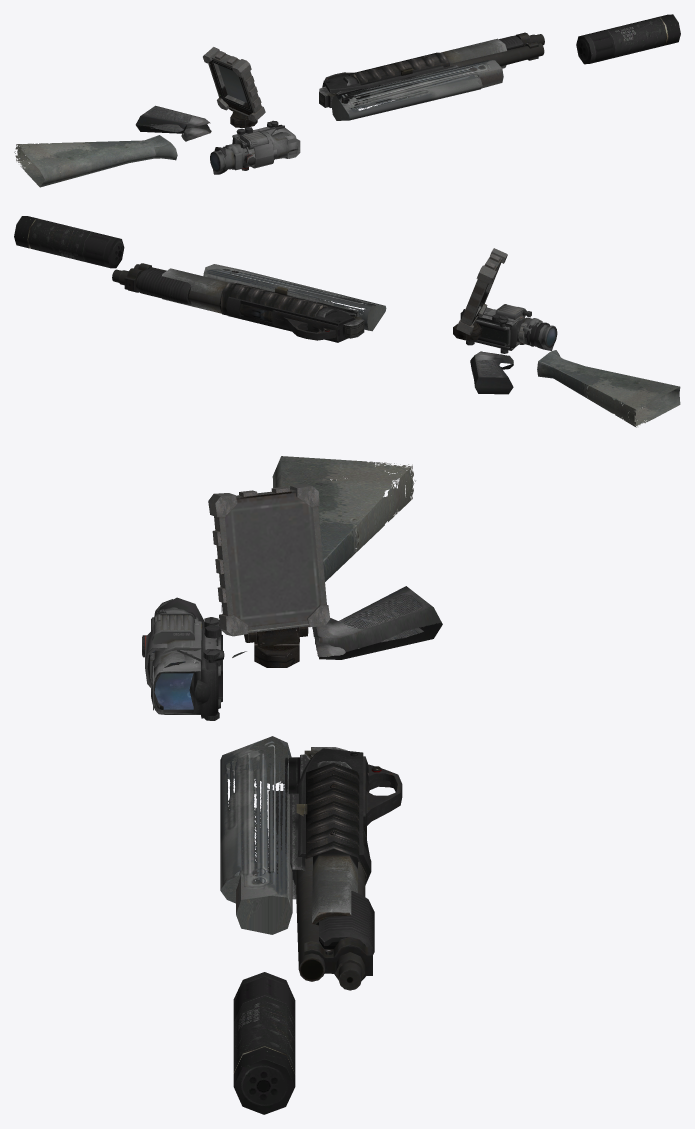
File: weapon_fn_fal_red_urban_LOD0.obj
3 views of the same model, one above another, from view 1: azimuth 30°, elevation 25°; view 2: azimuth 150°, elevation 25°; view 3: azimuth 270°, elevation 25° (orthographic). The views are drawn at different scales.
Visible parts, largest first — view 1: mtl_weapon_fn_fal_red_urban, mtl_weapon_m203, mtl_weapon_suppressor_b, mtl_weapon_motion_tracker_red_urban, mtl_weapon_shotgun_masterkey, mtl_weapon_acog_2_red_urban, mtl_weapon_thermal_sight_2_red_urban, mtl_weapon_eotech_2_red_urban, mtl_weapon_red_dot_sight_red_urban; view 2: mtl_weapon_fn_fal_red_urban, mtl_weapon_shotgun_masterkey, mtl_weapon_m203, mtl_weapon_suppressor_b, mtl_weapon_motion_tracker_red_urban, mtl_weapon_thermal_sight_2_red_urban, mtl_weapon_acog_2_red_urban, mtl_weapon_eotech_2_red_urban, mtl_weapon_red_dot_sight_red_urban; view 3: mtl_weapon_fn_fal_red_urban, mtl_weapon_motion_tracker_red_urban, mtl_weapon_shotgun_masterkey, mtl_weapon_m203, mtl_weapon_suppressor_b, mtl_weapon_thermal_sight_2_red_urban, mtl_weapon_red_dot_sight_red_urban, mtl_weapon_eotech_2_red_urban, mtl_weapon_reflex_lens, mtl_weapon_acog_2_red_urban.
Part boxes in pixels (x1,y1,x2,y2): mtl_weapon_fn_fal_red_urban: (14,60,503,187); mtl_weapon_m203: (319,38,506,108); mtl_weapon_suppressor_b: (576,14,680,64); mtl_weapon_motion_tracker_red_urban: (203,47,265,128); mtl_weapon_shotgun_masterkey: (322,32,544,103); mtl_weapon_acog_2_red_urban: (210,121,298,172); mtl_weapon_thermal_sight_2_red_urban: (213,127,300,174); mtl_weapon_eotech_2_red_urban: (232,126,275,168); mtl_weapon_red_dot_sight_red_urban: (232,120,297,158); mtl_weapon_fn_fal_red_urban: (203,264,680,427); mtl_weapon_shotgun_masterkey: (112,263,355,342); mtl_weapon_m203: (162,268,364,338); mtl_weapon_suppressor_b: (14,216,124,268); mtl_weapon_motion_tracker_red_urban: (453,248,507,340); mtl_weapon_thermal_sight_2_red_urban: (481,304,553,350); mtl_weapon_acog_2_red_urban: (462,307,557,347); mtl_weapon_eotech_2_red_urban: (469,311,517,350); mtl_weapon_red_dot_sight_red_urban: (460,309,517,353); mtl_weapon_fn_fal_red_urban: (220,456,442,934); mtl_weapon_motion_tracker_red_urban: (208,483,330,667); mtl_weapon_shotgun_masterkey: (268,748,402,990); mtl_weapon_m203: (285,747,368,925); mtl_weapon_suppressor_b: (233,972,295,1114); mtl_weapon_thermal_sight_2_red_urban: (150,597,220,710); mtl_weapon_red_dot_sight_red_urban: (151,617,219,720); mtl_weapon_eotech_2_red_urban: (145,621,222,705); mtl_weapon_reflex_lens: (154,673,193,709); mtl_weapon_acog_2_red_urban: (142,599,224,709).
Bounding box in the file's own units: 107 × 16.24 × 30.32.
